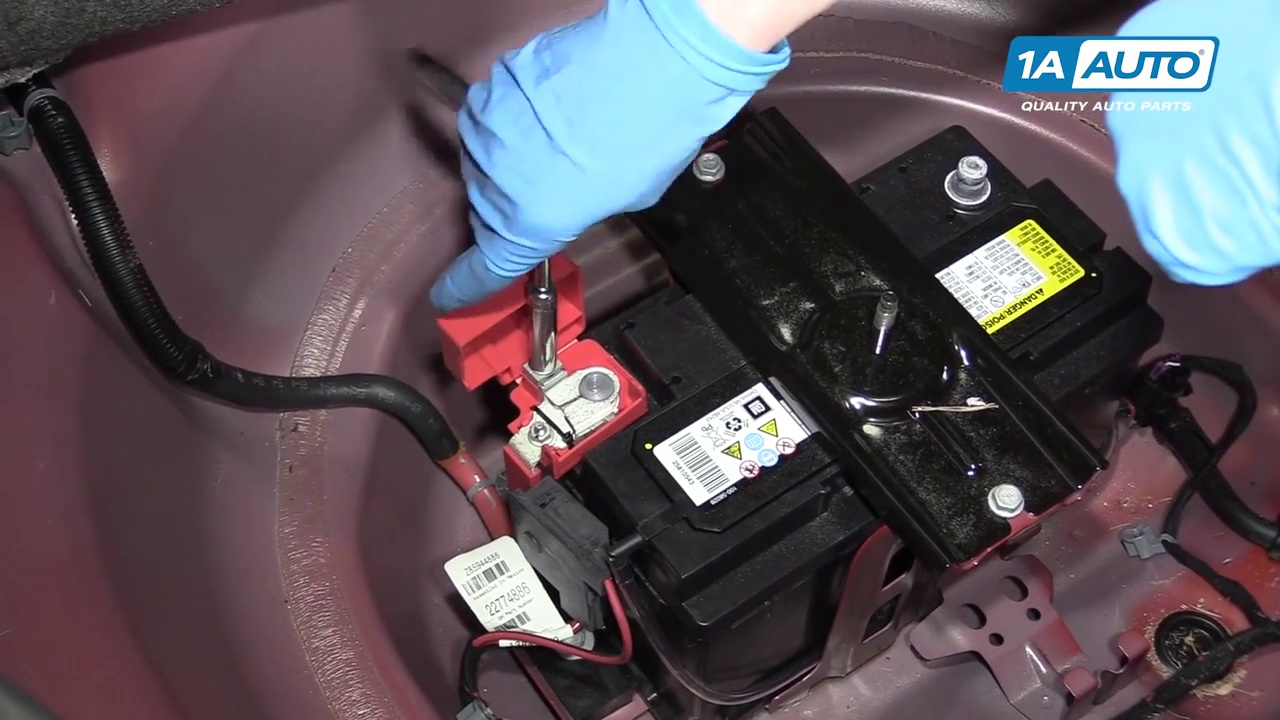battery: (512, 120, 1154, 610)
neg_disconnected: (921, 135, 1016, 227)
pos_connected: (440, 299, 658, 486)
pos_touched: (435, 146, 643, 453)
